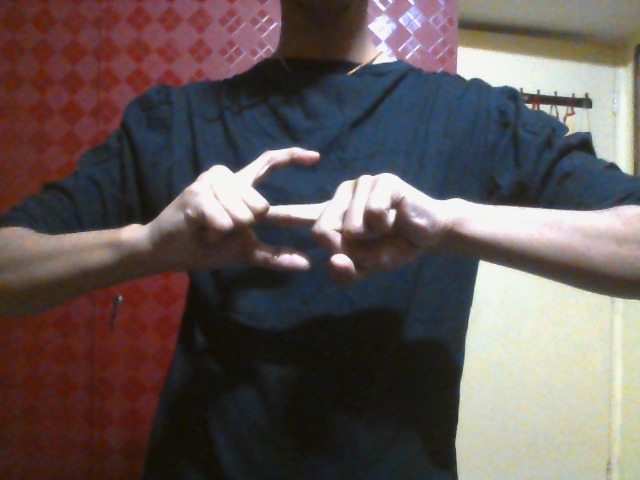E: (183, 142, 451, 291)
